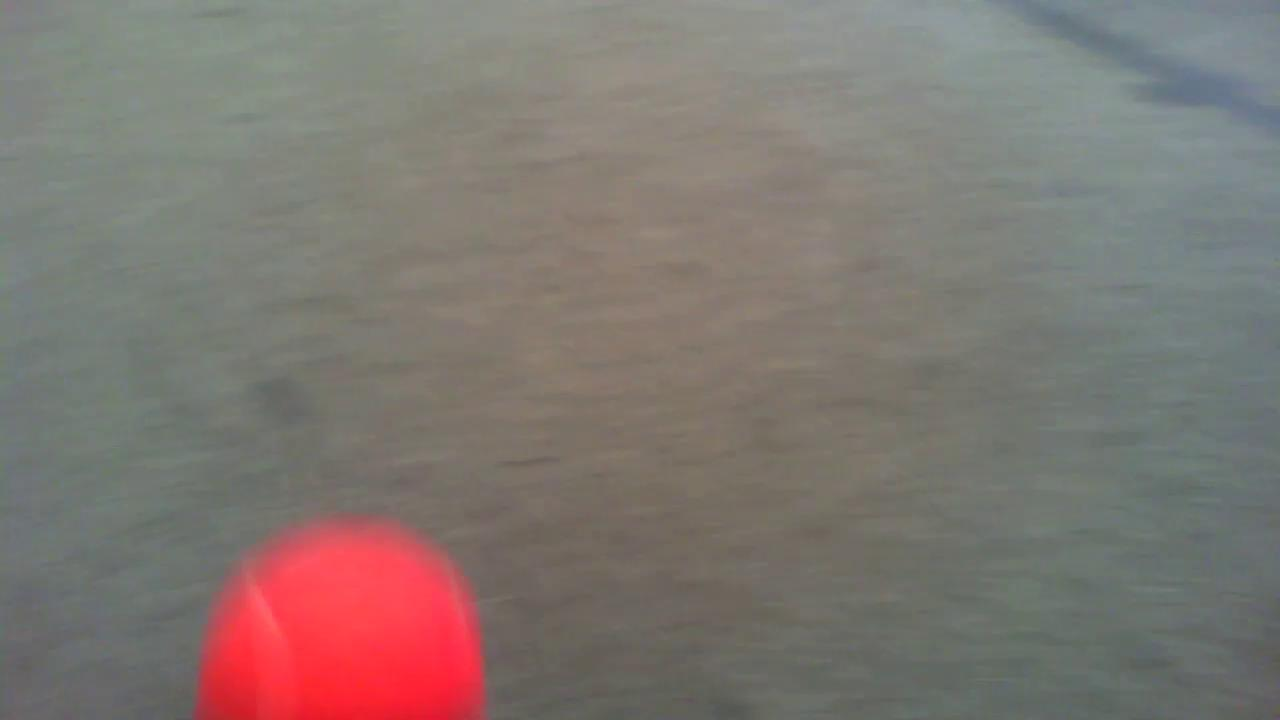Red_Ball: (202, 510, 502, 720)
